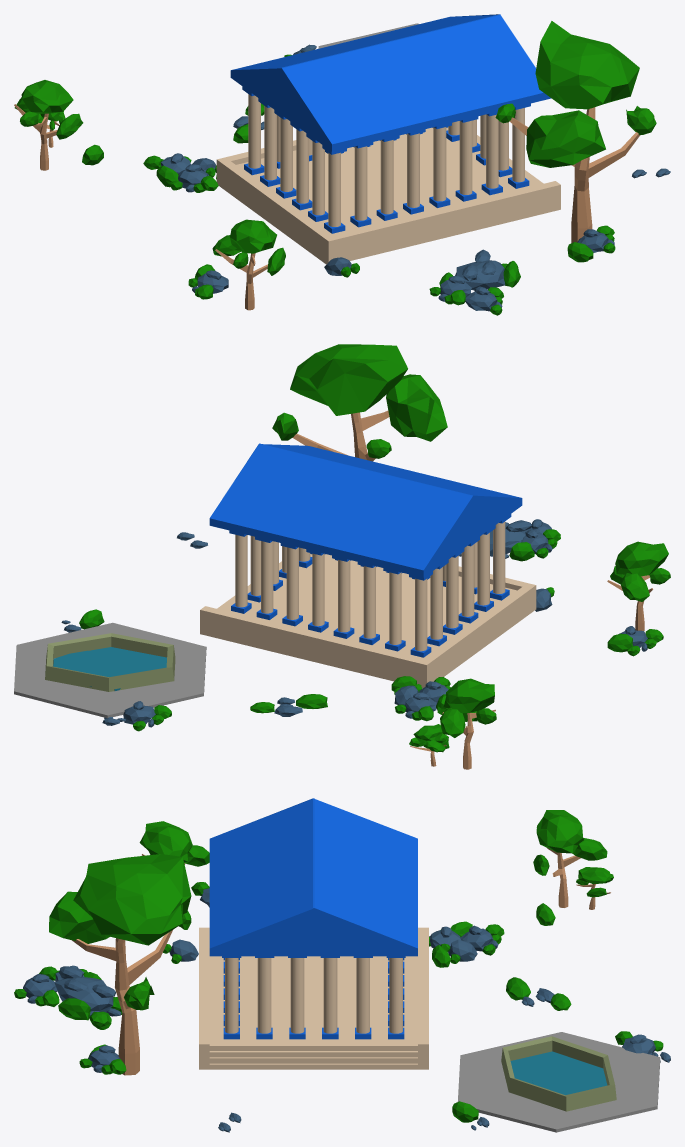
Rendered from Temple eau.fbx.
3 renders of one model, top to bottom at view 1: azimuth 30°, elevation 25°; view 2: azimuth 150°, elevation 25°; view 3: azimuth 270°, elevation 25°, orthographic. The views are drawn at different scales.
Parts seen in each view (by area): view 1: Icokugel.027; view 2: Icokugel.027; view 3: Icokugel.027.
Part boxes in pixels (x1=…): Icokugel.027: x1=14, y1=14, x2=670, y2=315; Icokugel.027: x1=14, y1=344, x2=670, y2=769; Icokugel.027: x1=14, y1=798, x2=670, y2=1132.
Bounding box in the file's own units: 1267 × 513 × 1425.
